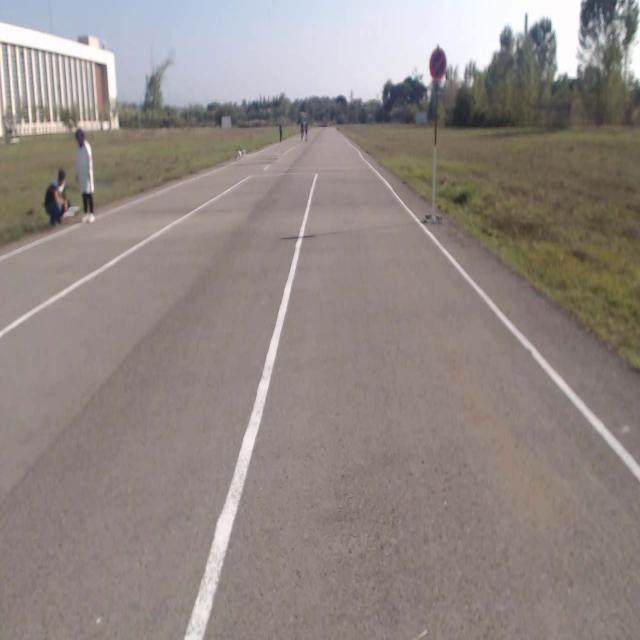parkyasak: (430, 49, 447, 80)
